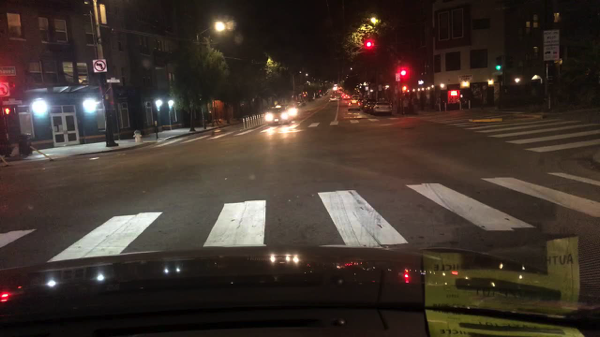car: (264, 105, 290, 125), (371, 100, 393, 117), (277, 103, 298, 118), (347, 99, 361, 112), (362, 102, 376, 112), (361, 97, 376, 103), (306, 95, 316, 101), (329, 95, 336, 102), (350, 95, 359, 100), (300, 99, 307, 105), (335, 96, 342, 102), (358, 98, 363, 106), (343, 96, 350, 101), (295, 102, 301, 107), (341, 93, 347, 97), (322, 91, 326, 96), (339, 90, 344, 94), (324, 90, 330, 93), (319, 93, 324, 96), (337, 89, 340, 93), (328, 89, 330, 91)
traffic light: (364, 38, 373, 52), (3, 105, 13, 117), (400, 67, 408, 81), (494, 57, 501, 71), (402, 85, 408, 92)
traffic sign: (542, 29, 559, 44), (542, 46, 559, 61), (92, 59, 108, 74), (0, 66, 16, 76), (0, 81, 10, 97), (3, 98, 23, 105), (106, 78, 121, 83), (396, 73, 401, 82), (316, 93, 322, 98), (378, 84, 381, 92), (365, 87, 369, 90)
